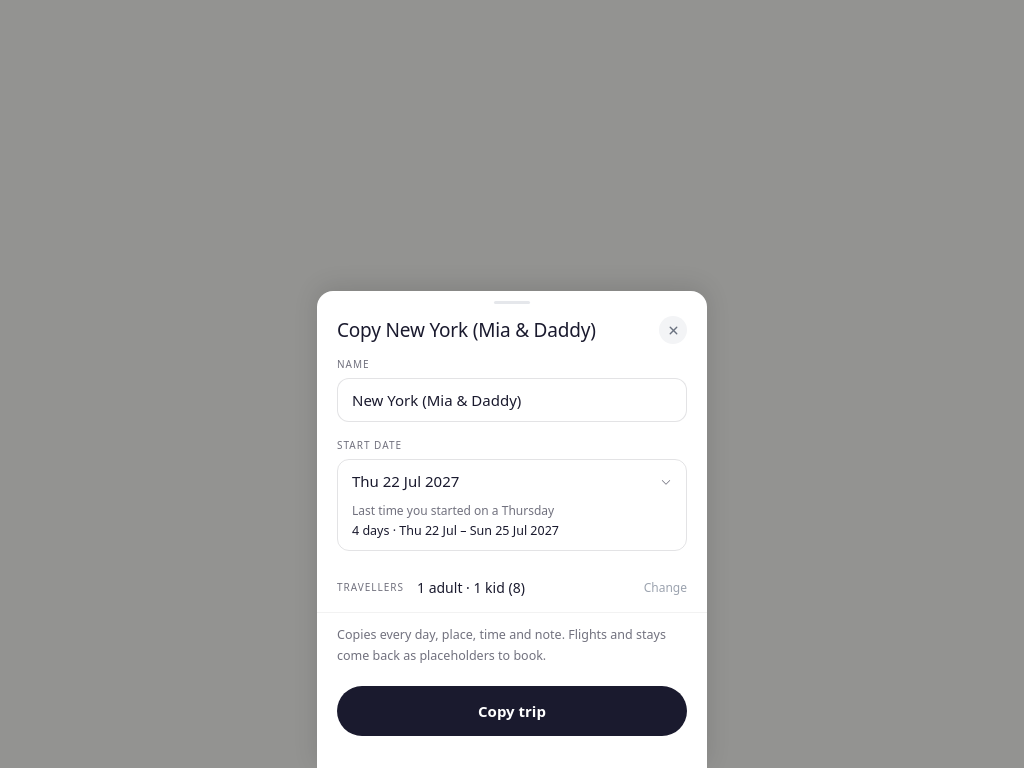
the copy sheet › picking a new start moves the end with it, same length
Click the button with test id "copy-start" at (406, 481), box left=338, top=459, right=686, bottom=503
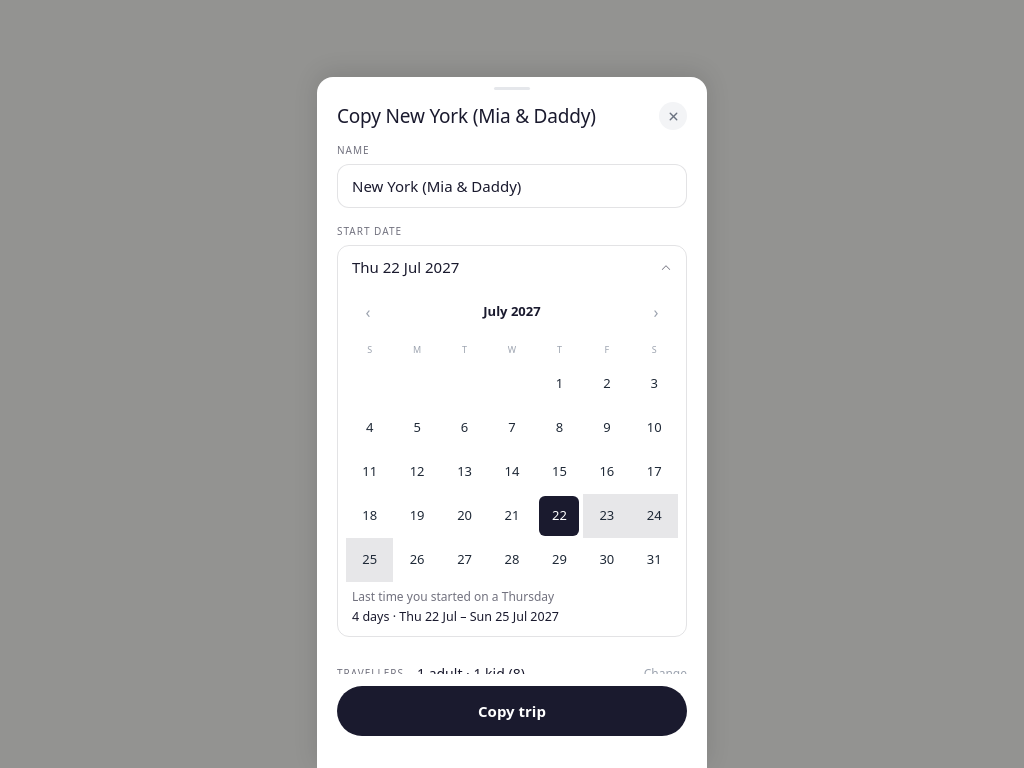
Click the button named "Fri 30 Jul 2027" at (607, 559), box left=587, top=539, right=627, bottom=579
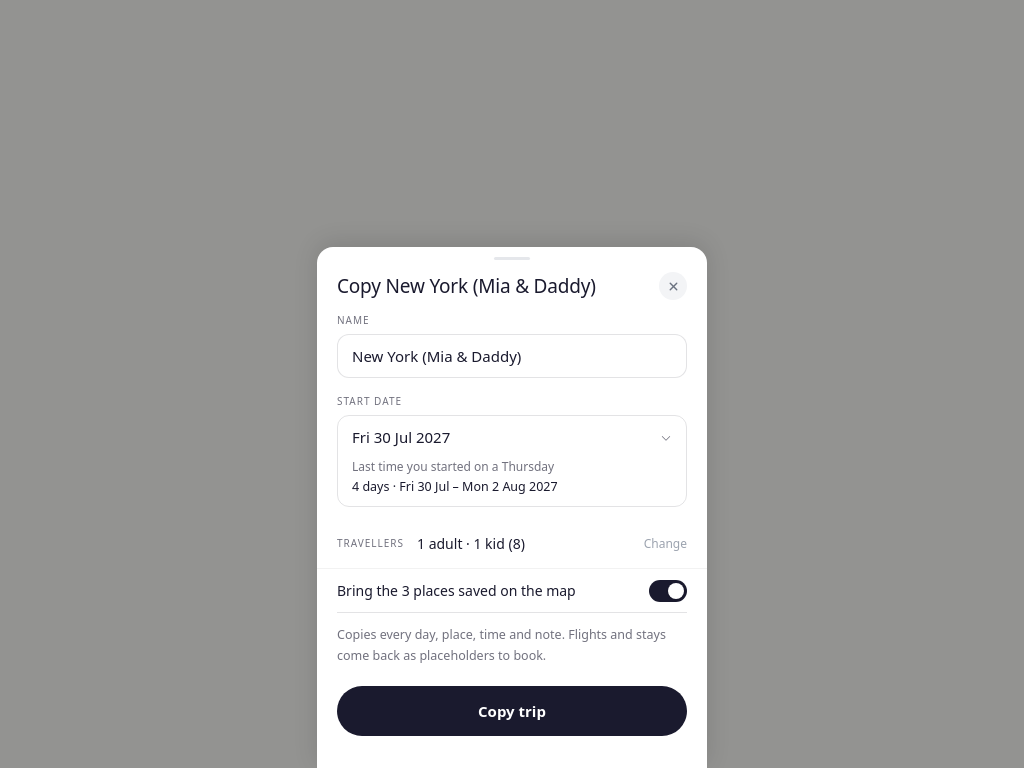
Result: the element with test id "copy-calendar" is gone
Result: the text with test id "copy-caption" reads "4 days · Fri 30 Jul – Mon 2 Aug 2027" at left=352, top=477, right=558, bottom=494
